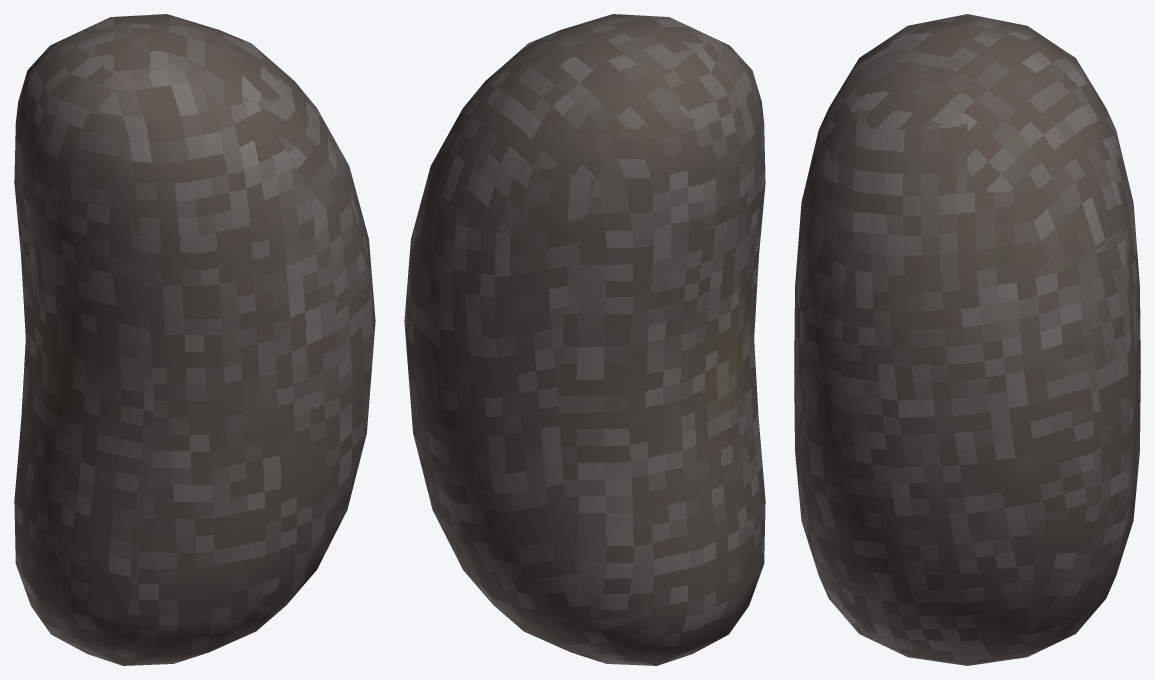
3 views of the same model, side by side, from view 1: azimuth 30°, elevation 25°; view 2: azimuth 150°, elevation 25°; view 3: azimuth 270°, elevation 25° (orthographic).
Visible parts, largest first — view 1: Cube.1409; view 2: Cube.1409; view 3: Cube.1409.
Part boxes in pixels (box(x1,y1,x2,y2)): Cube.1409: box(14, 14, 375, 665); Cube.1409: box(404, 14, 765, 665); Cube.1409: box(794, 14, 1140, 665).
Size of the model in its own units: 0.2731 by 0.5138 by 0.2612.
Materials: 1 (1 with a texture image).
